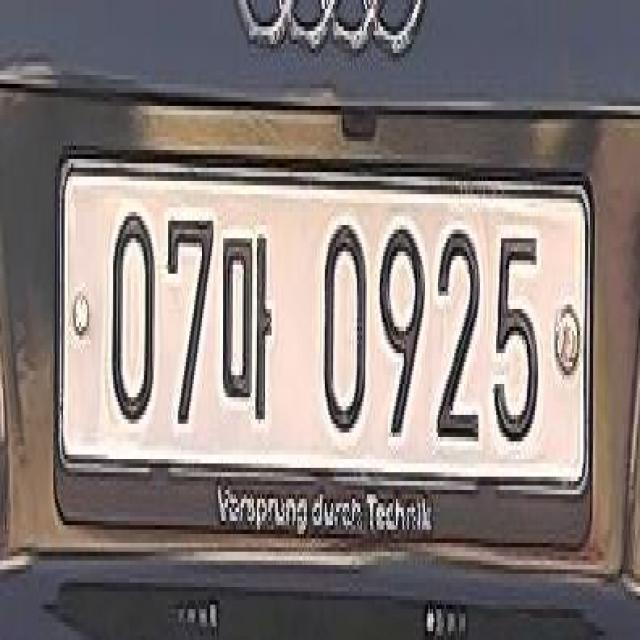illegal_plate: (56, 142, 600, 552)
